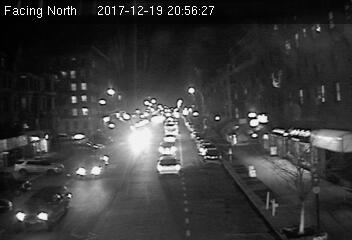car: (11, 183, 72, 228), (75, 154, 105, 178), (156, 156, 181, 178), (200, 150, 223, 164), (158, 141, 176, 155), (163, 134, 176, 143)
